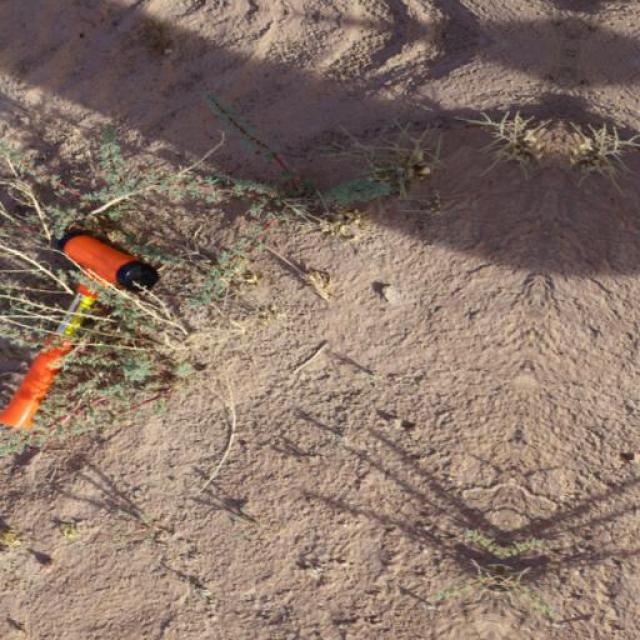mallet: (1, 226, 161, 432)
